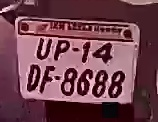1: (79, 40, 95, 65)
4: (90, 42, 115, 67)
6: (75, 69, 94, 98)
8: (59, 67, 79, 97), (108, 70, 127, 99), (92, 70, 108, 99)
D: (23, 62, 42, 94)
F: (39, 64, 57, 95)
P: (52, 39, 70, 64)
U: (34, 38, 53, 61)
